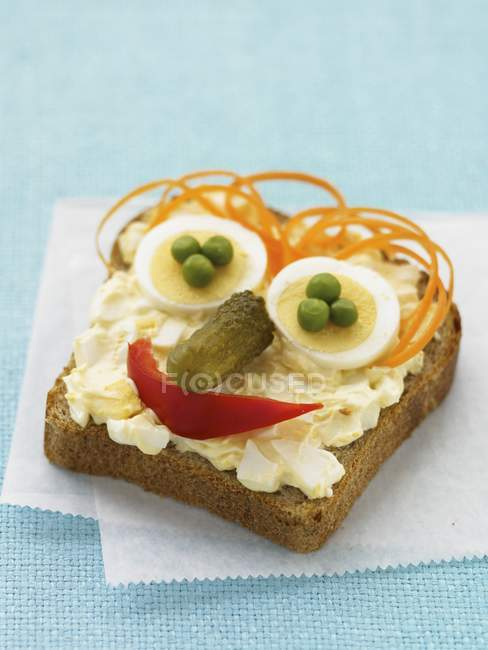slice of bread: (38, 382, 349, 530)
